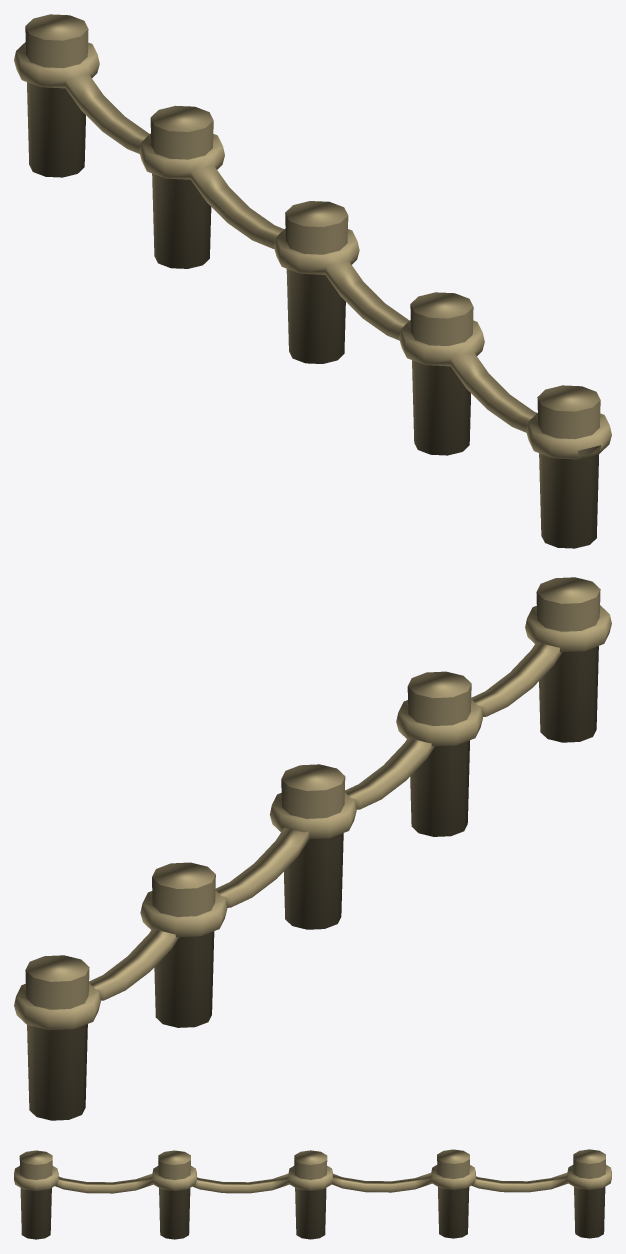
File: fence.fbx
3 renders of one model, top to bottom at view 1: azimuth 30°, elevation 25°; view 2: azimuth 150°, elevation 25°; view 3: azimuth 270°, elevation 25°, orthographic. The views are drawn at different scales.
Parts seen in each view (by area): view 1: Aitaus; view 2: Aitaus; view 3: Aitaus.
Part boxes in pixels (x1,y1,x2,y2): Aitaus: (14, 14, 611, 548); Aitaus: (14, 577, 611, 1120); Aitaus: (14, 1149, 611, 1239).
Bounding box in the file's own units: 57.07 × 95.96 × 689.
